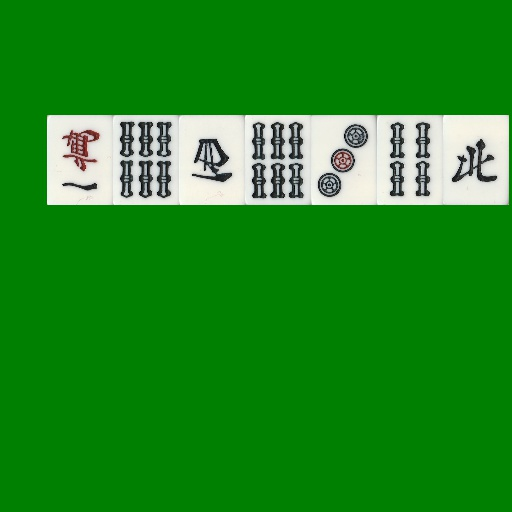1m: (47, 115, 113, 205)
3p: (311, 115, 377, 205)
4s: (377, 115, 443, 205)
6s: (113, 115, 179, 205), (245, 115, 311, 205)
north: (443, 115, 509, 205)
west: (179, 115, 245, 205)
